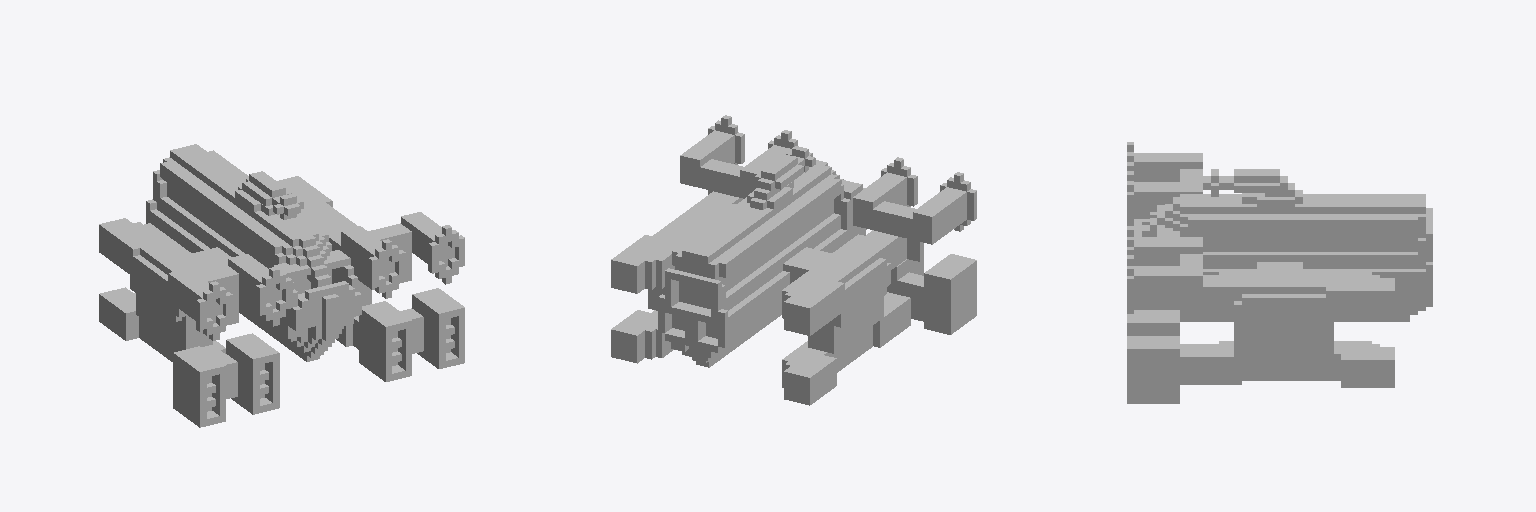
The model's file is bad-boy.obj.
The picture shows the model from 3 angles: view 1: azimuth 30°, elevation 25°; view 2: azimuth 150°, elevation 25°; view 3: azimuth 270°, elevation 25°; orthographic projection.
Visible parts, largest first — view 1: object 1; view 2: object 1; view 3: object 1.
Boxes of the visible parts, <box> form: object 1: <box>99,144,464,427</box>; object 1: <box>611,115,976,405</box>; object 1: <box>1127,142,1432,403</box>.
Bounding box in the file's own units: 4 × 2.4 × 4.